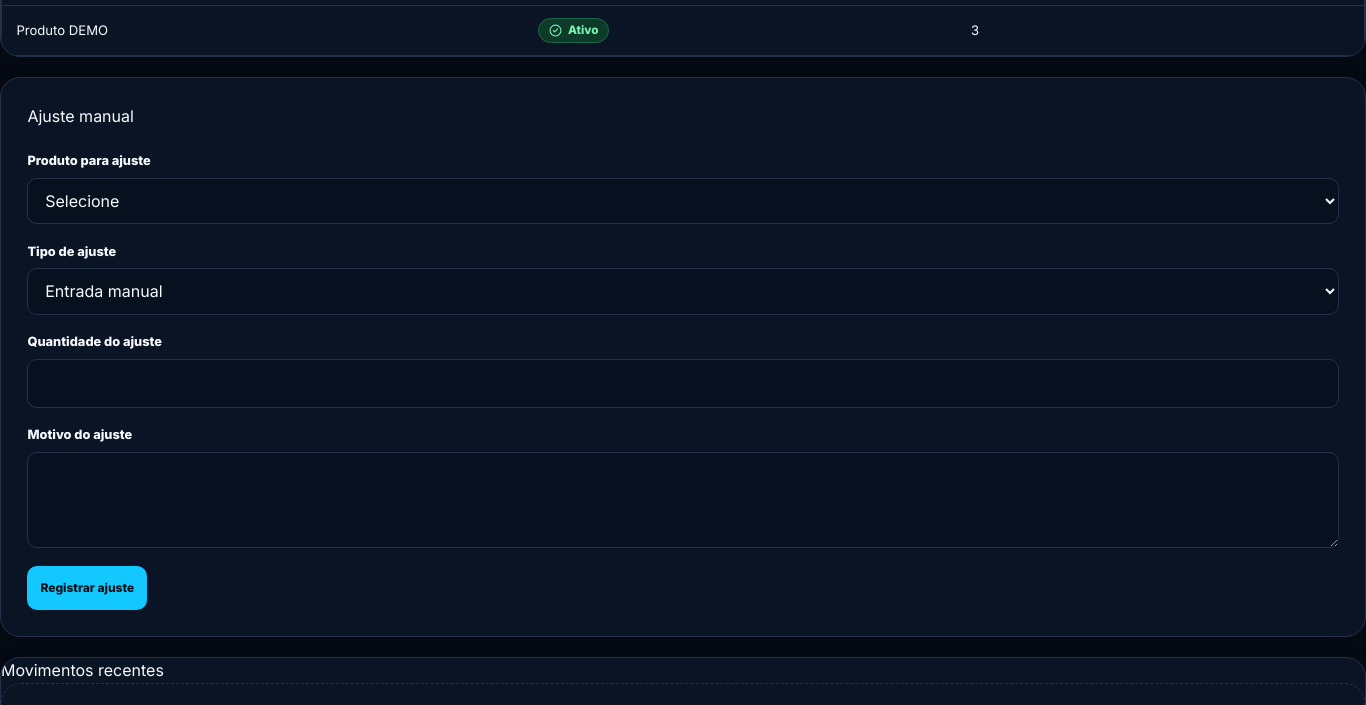
Scenario: merchant order UI › insufficient manual exit presents an error and allows corrected data
Select "Produto DEMO" in the dropdown labelled "Produto para ajuste" at (683, 201), box [27, 178, 1339, 224]
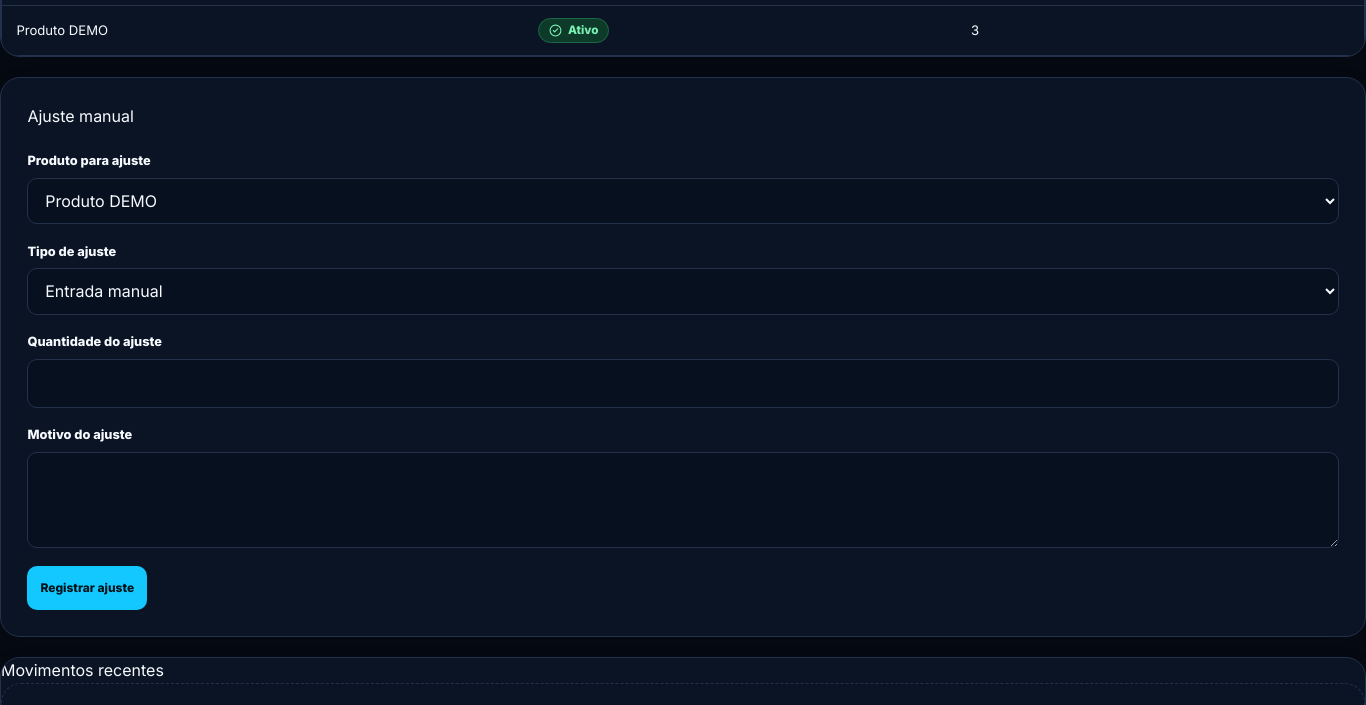
Type "2" into the number field labelled "Quantidade do ajuste" at (683, 383), box [27, 359, 1339, 408]
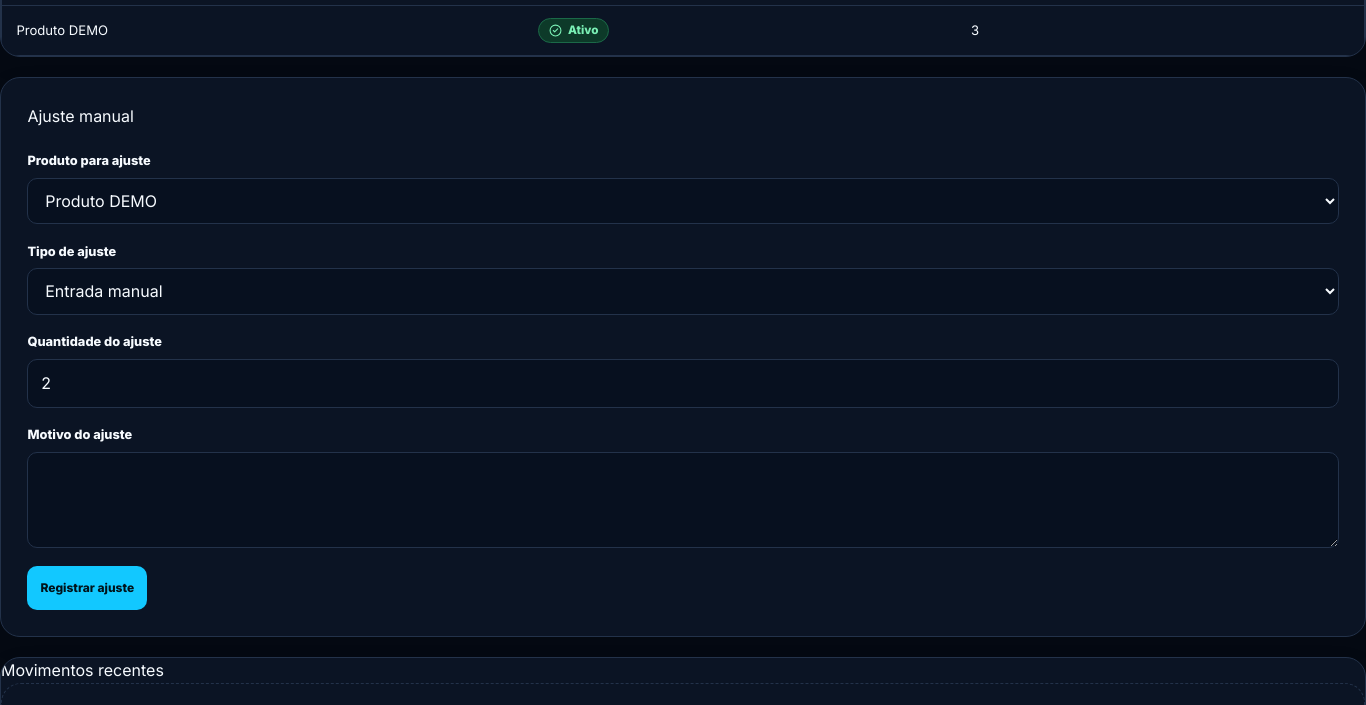
Type "Contagem DEMO" into the text box labelled "Motivo do ajuste" at (683, 500), box [27, 452, 1339, 548]
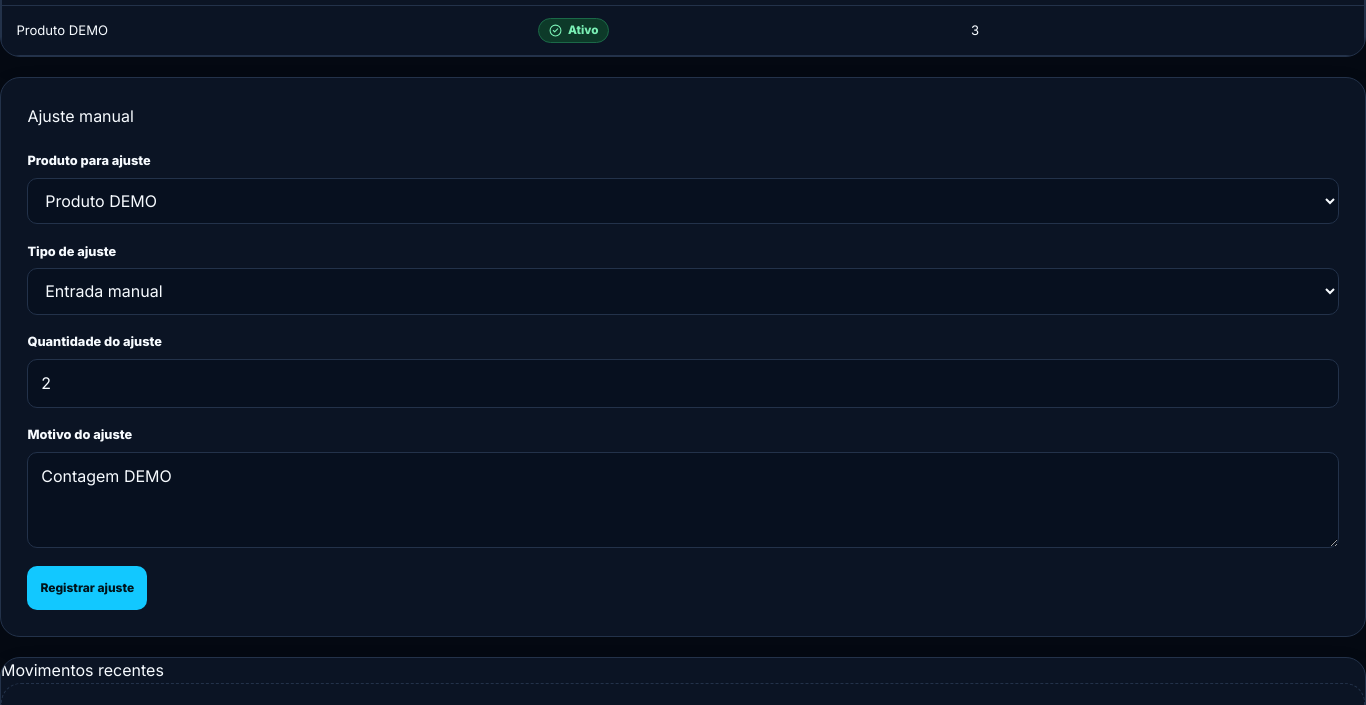
Select "Saída manual" in the dropdown labelled "Tipo de ajuste" at (683, 291), box [27, 268, 1339, 315]
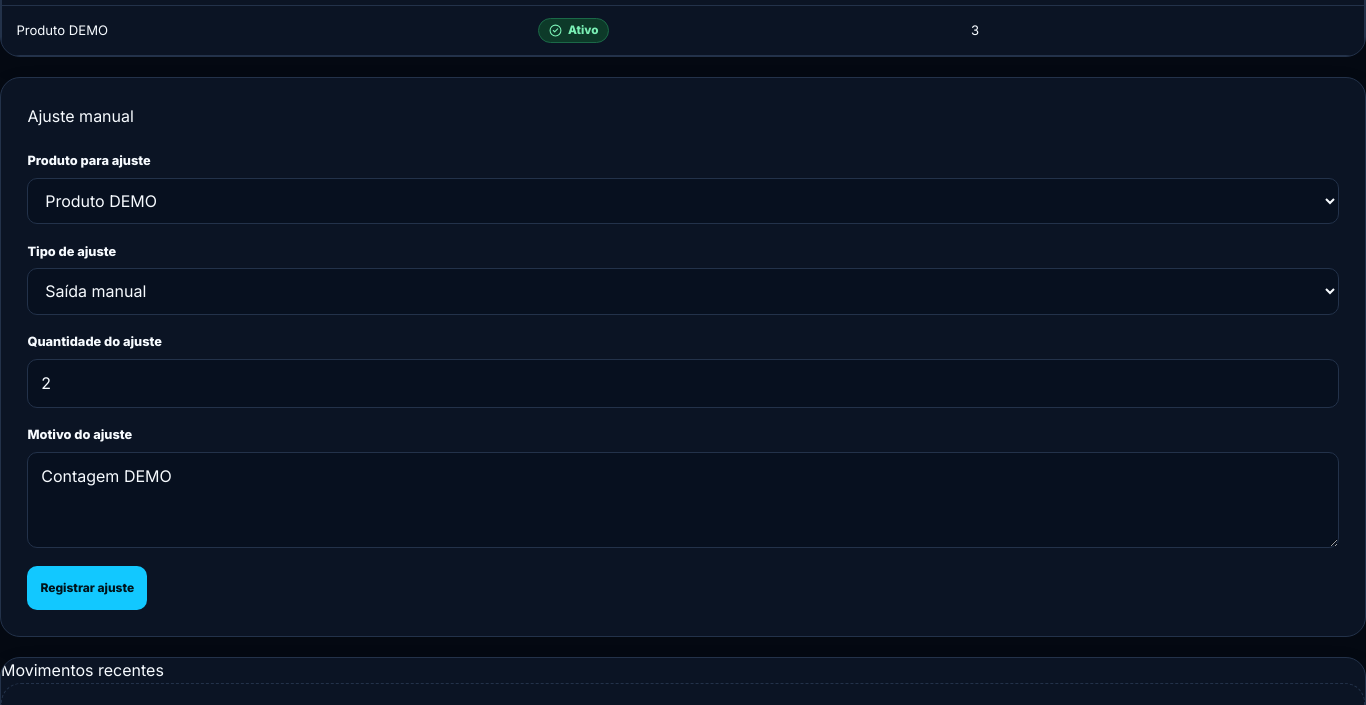
Click the button "Registrar ajuste" at (87, 588), box [27, 566, 147, 610]
(page scrolled)
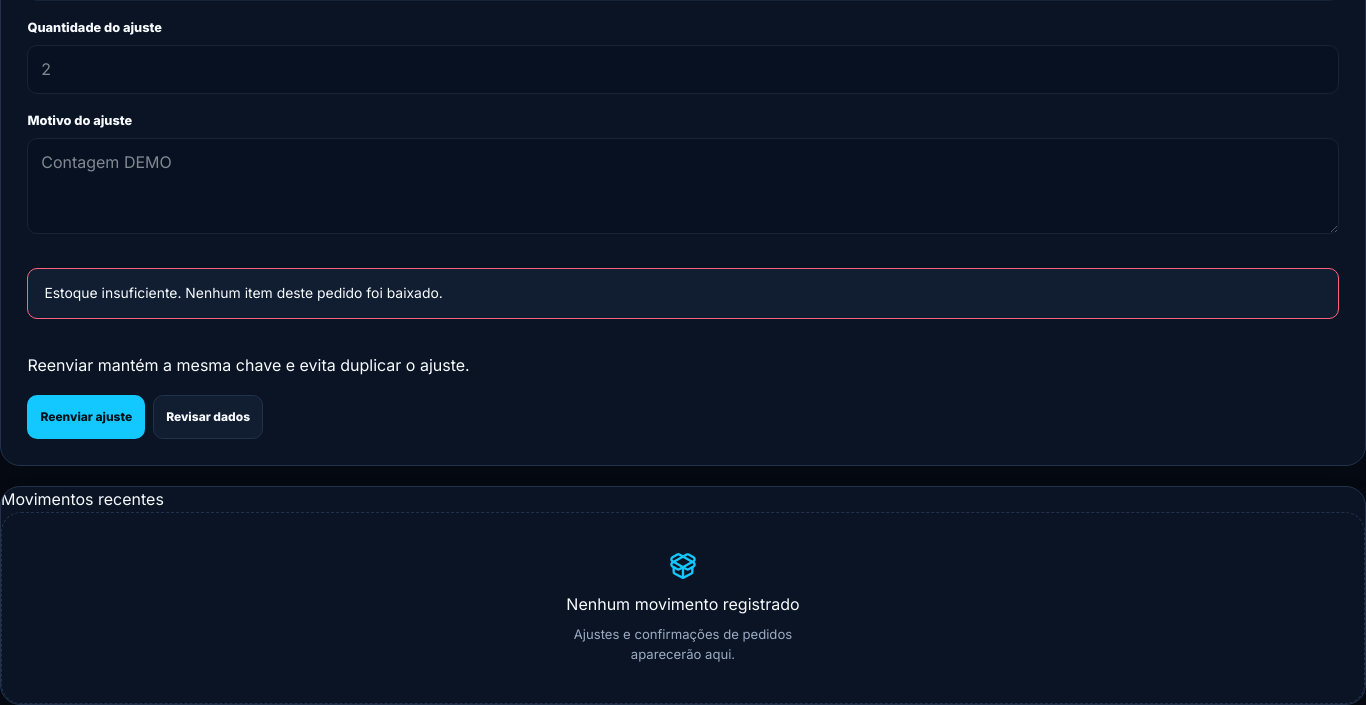
Now the message "Estoque insuficiente. Nenhum item deste pedido foi baixado." is shown, box [27, 268, 1339, 319]
Click the button "Revisar dados" at (208, 417), box [153, 395, 263, 439]
(page scrolled)
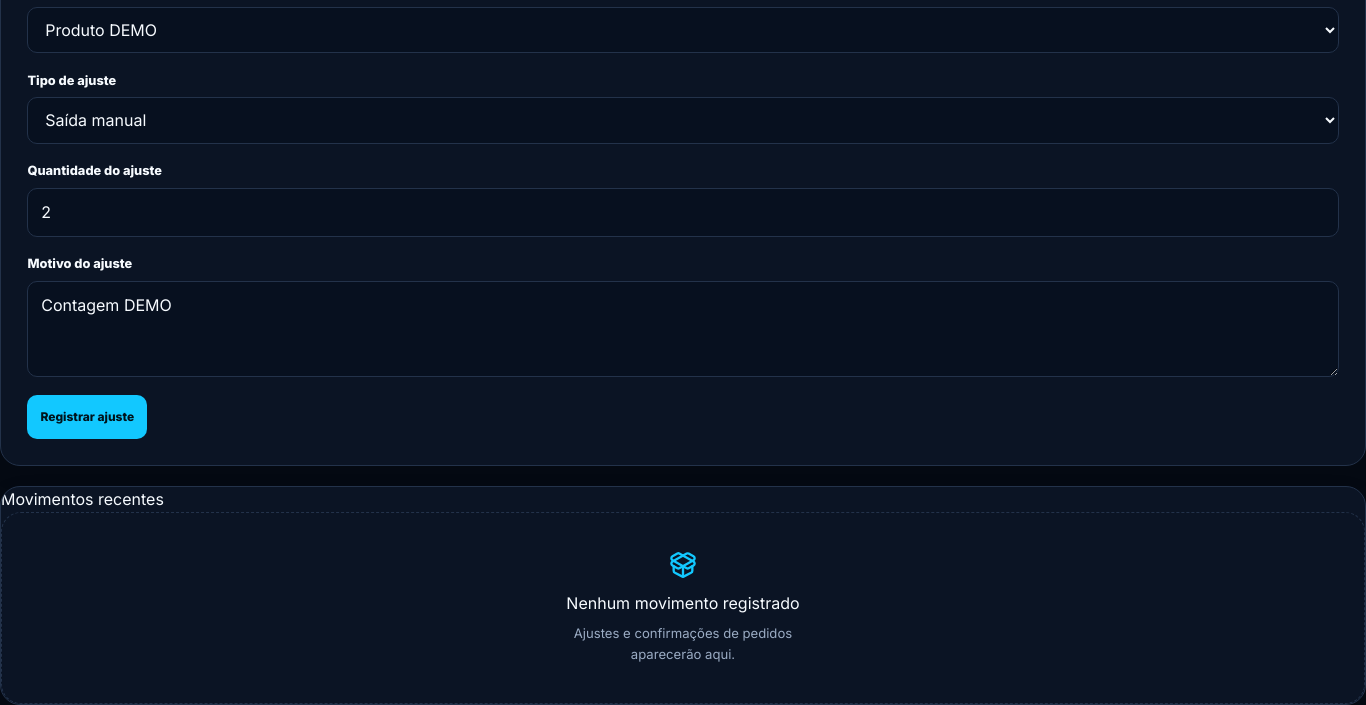
Now the number field labelled "Quantidade do ajuste" is enabled, box [27, 188, 1339, 237]
